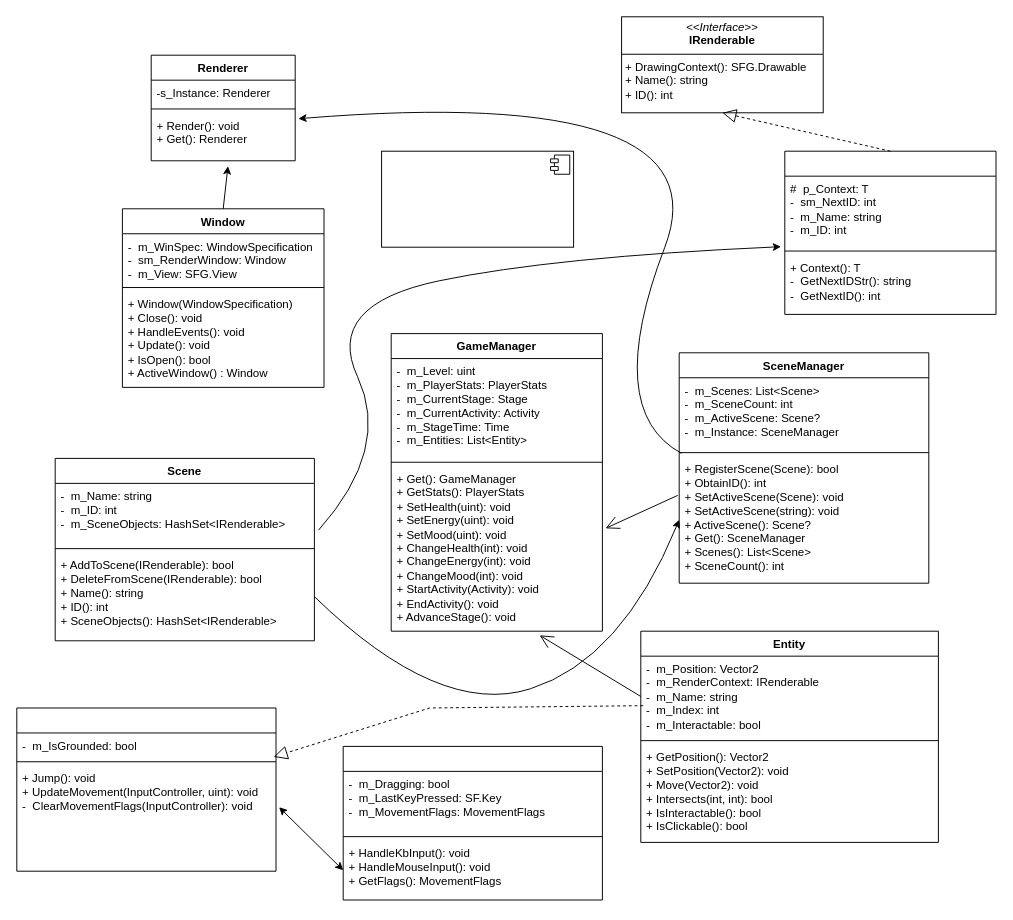
This 1013x920 diagram has some shape labels left out. The box of each missing label's shape, as (x1, y1, x2, y2) in pixels:
Food + Energy: int + Stamina: int + Health: int + Type: FoodType: (381, 150, 574, 247)
InputController: (342, 745, 602, 900)
Player: (16, 707, 276, 871)
RenderObject<T>: (784, 150, 996, 314)
